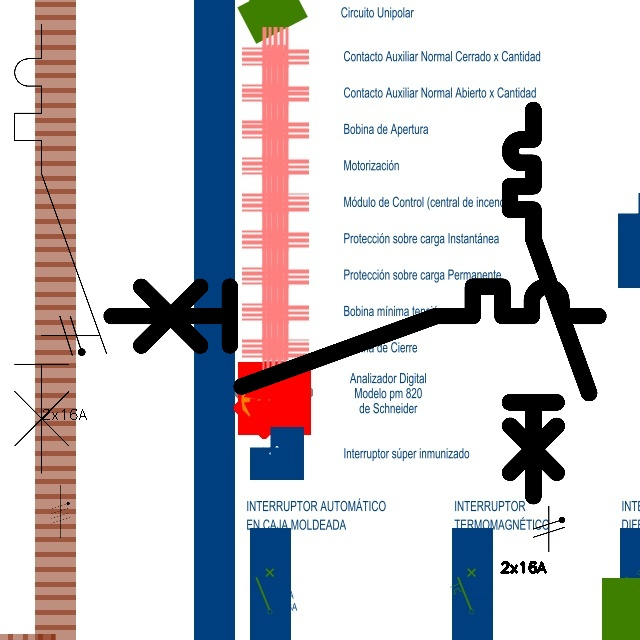interruptor_termomagnetico: (98, 274, 610, 399), (3, 13, 118, 484), (500, 100, 599, 506)
